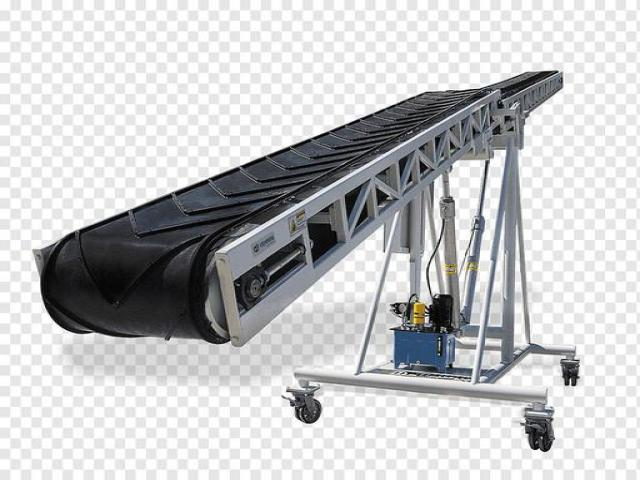conveyor: (30, 68, 568, 348)
